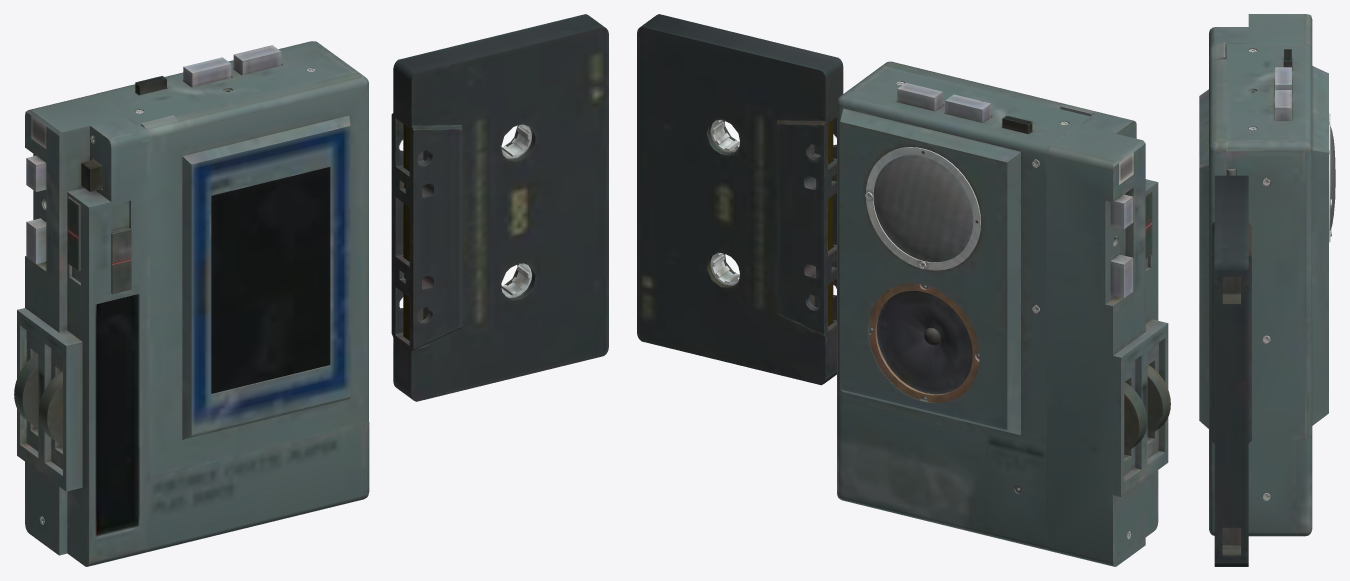
The model's file is portable_cassette_player.glb.
The picture shows the model from 3 angles, left to right: view 1: azimuth 30°, elevation 25°; view 2: azimuth 150°, elevation 25°; view 3: azimuth 270°, elevation 25°; orthographic projection. The views are drawn at different scales.
Visible parts, largest first — view 1: portable_cassette_player, portable_cassette_player_lid, portable_cassette_player_casette; view 2: portable_cassette_player, portable_cassette_player_casette, portable_cassette_player_lid; view 3: portable_cassette_player, portable_cassette_player_casette, portable_cassette_player_lid.
Part boxes in pixels (x1,y1,x2,y2): portable_cassette_player: (14, 41, 369, 566); portable_cassette_player_lid: (141, 72, 368, 476); portable_cassette_player_casette: (391, 14, 608, 401); portable_cassette_player: (837, 66, 1170, 566); portable_cassette_player_casette: (637, 14, 843, 385); portable_cassette_player_lid: (881, 61, 1097, 116); portable_cassette_player: (1209, 14, 1335, 536); portable_cassette_player_casette: (1211, 175, 1251, 566); portable_cassette_player_lid: (1199, 42, 1235, 466).
Size of the model in its own units: 0.1723 by 0.1303 by 0.0397.
Materials: 2 (2 with a texture image).
